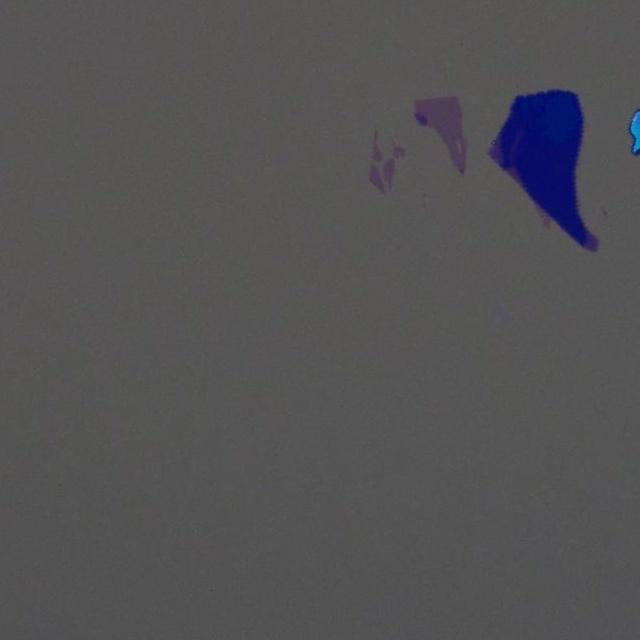monolayer-eWW4: (414, 100, 468, 174), (363, 128, 401, 194)
